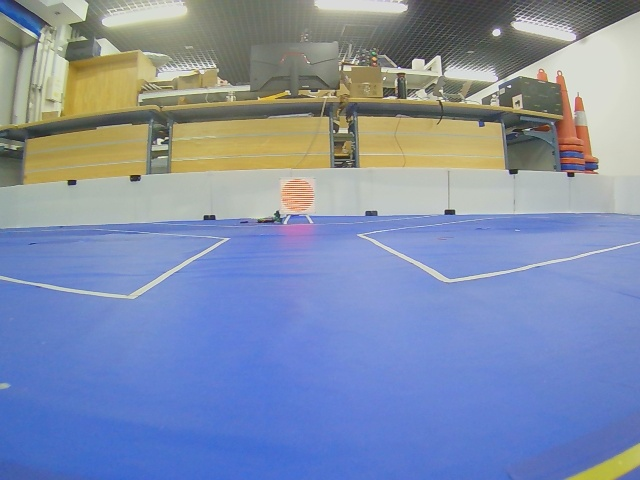red: (280, 178, 315, 214)
